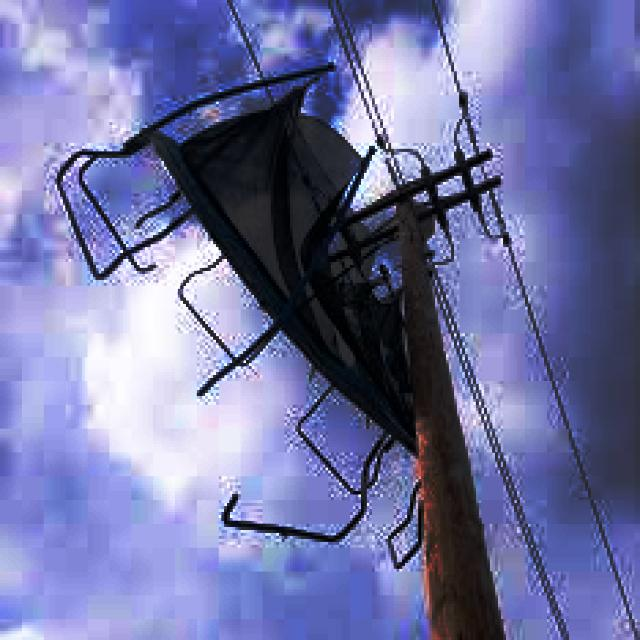obstruction: (57, 63, 498, 536), (388, 482, 421, 566)
poles: (336, 149, 503, 637)
wires: (470, 191, 637, 637), (435, 280, 566, 637), (328, 0, 399, 188), (432, 0, 479, 158), (227, 0, 263, 77), (440, 226, 451, 259)
